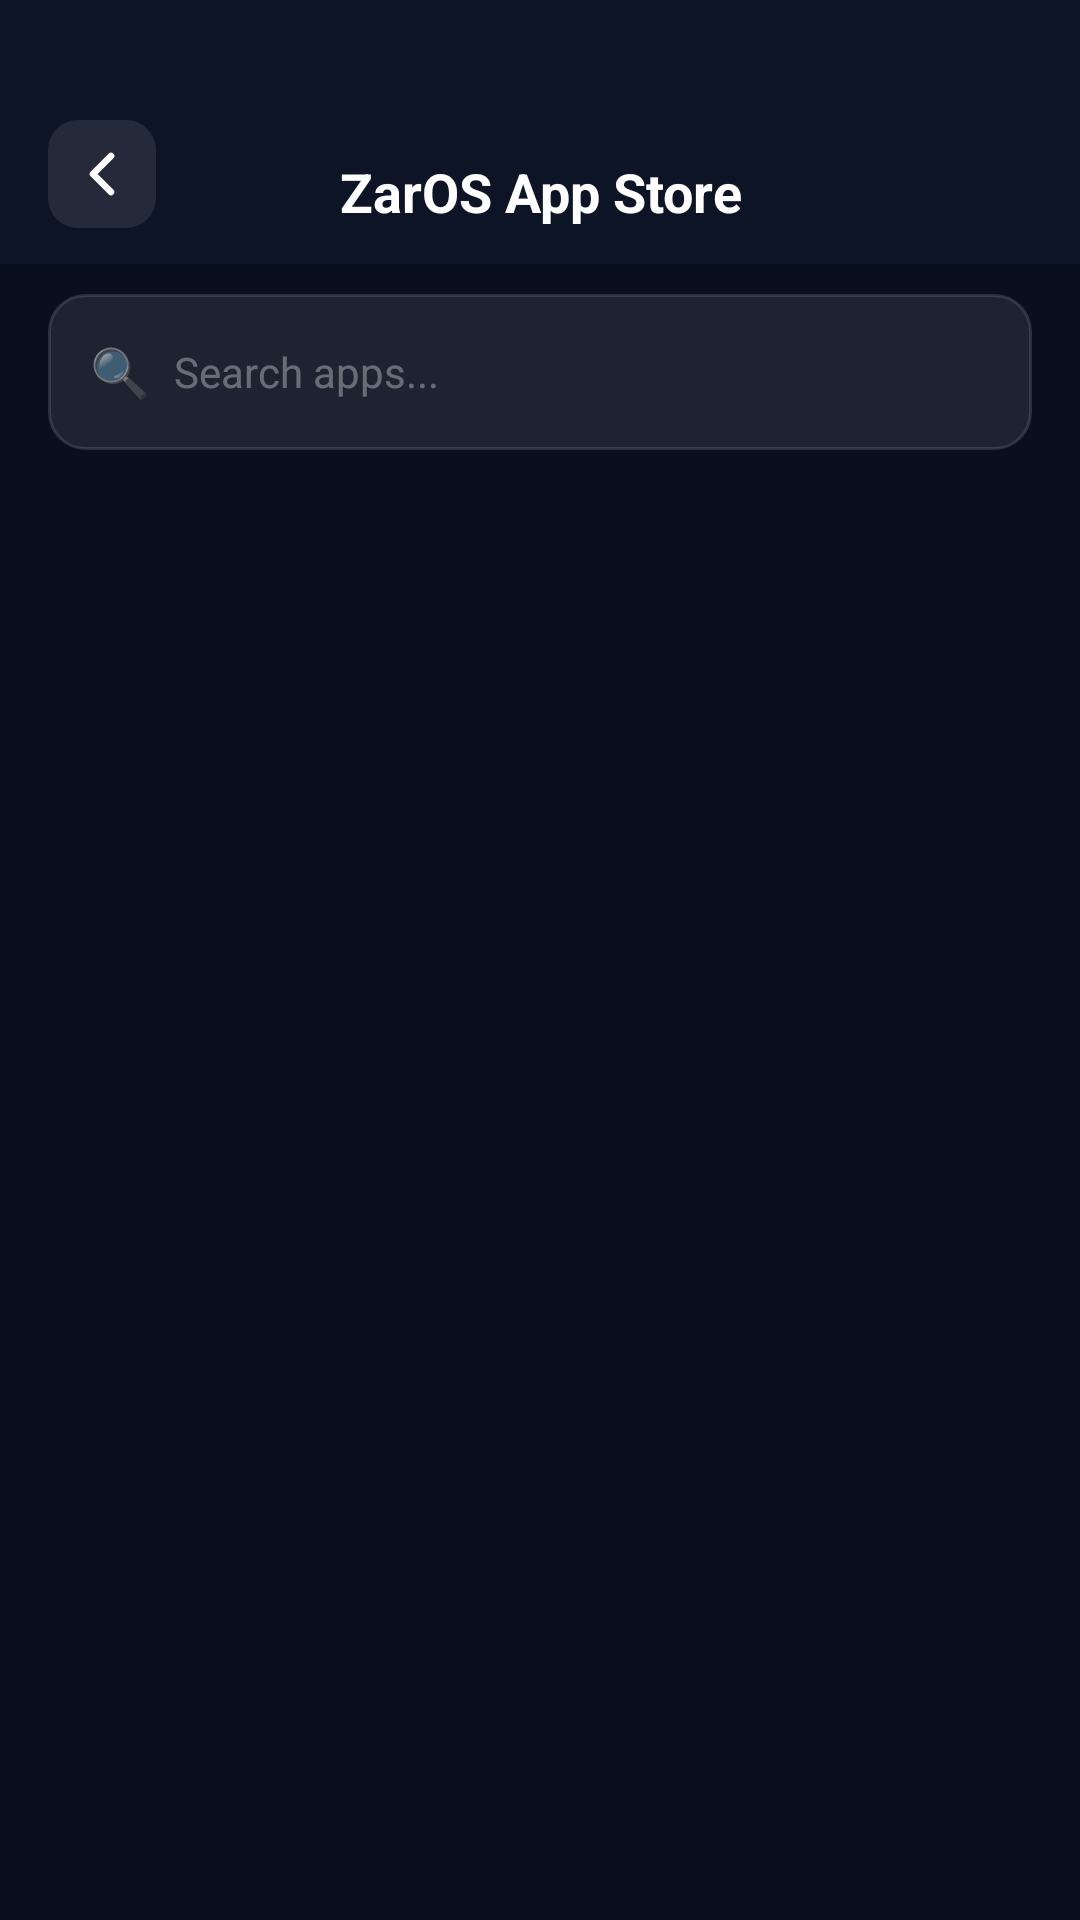

Icons on this 1080*1920 Android screen, each with the point to tap as point (x, y):
Back: point (102, 174)
